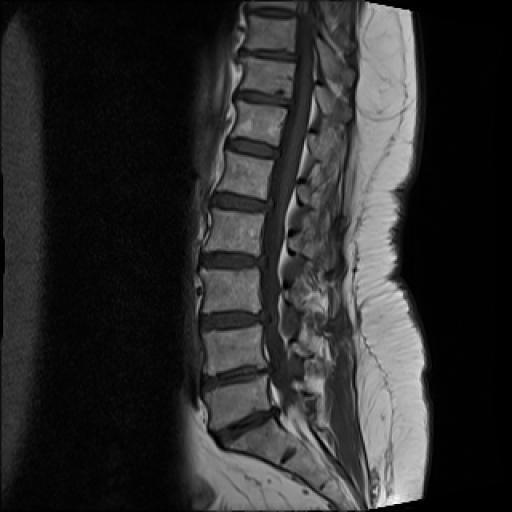L1: (218, 151, 273, 198)
L2: (206, 209, 264, 254)
L3: (199, 265, 263, 316)
L4: (203, 324, 265, 374)
L5: (205, 375, 270, 430)
S1: (230, 418, 292, 464)
